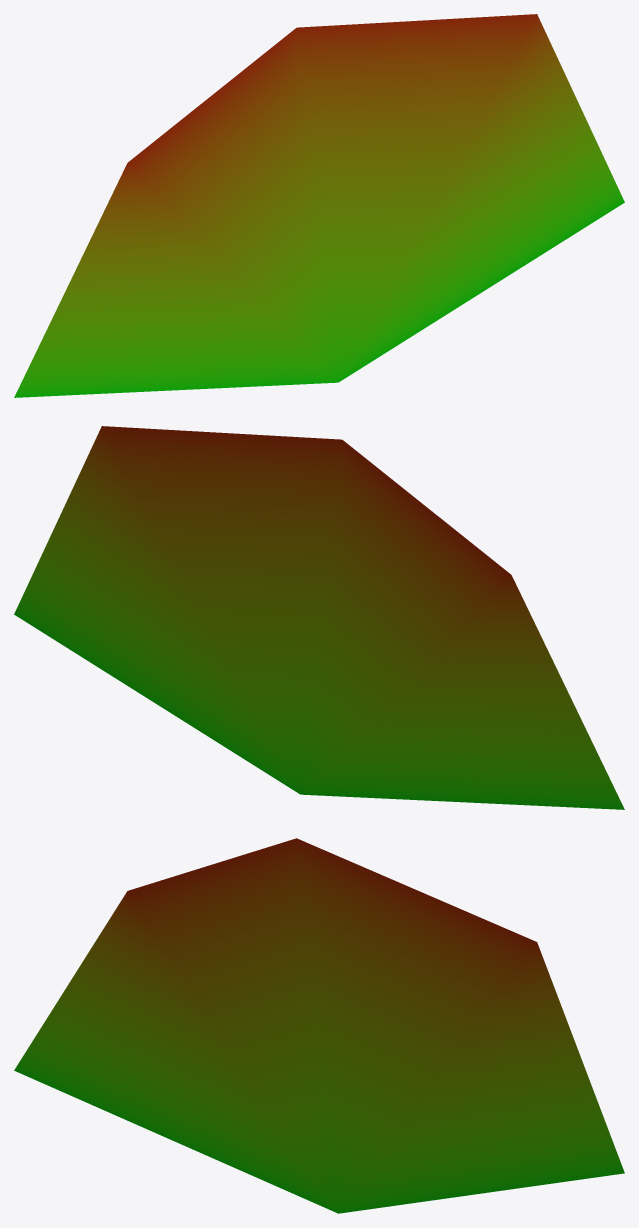
File: Aloe Vera_LOD4_Var6_ve4tbbrha.fbx
3 renders of one model, top to bottom at view 1: azimuth 30°, elevation 25°; view 2: azimuth 150°, elevation 25°; view 3: azimuth 330°, elevation 25°, orthographic.
Parts seen in each view (by area): view 1: _cdeb_Var6_LOD4; view 2: _cdeb_Var6_LOD4; view 3: _cdeb_Var6_LOD4.
Part boxes in pixels (bbox=[...]): _cdeb_Var6_LOD4: bbox=[14, 14, 624, 397]; _cdeb_Var6_LOD4: bbox=[14, 426, 624, 809]; _cdeb_Var6_LOD4: bbox=[14, 838, 624, 1213].
Size of the model in its own units: 91.95 by 52.53 by 9.88e-06.
